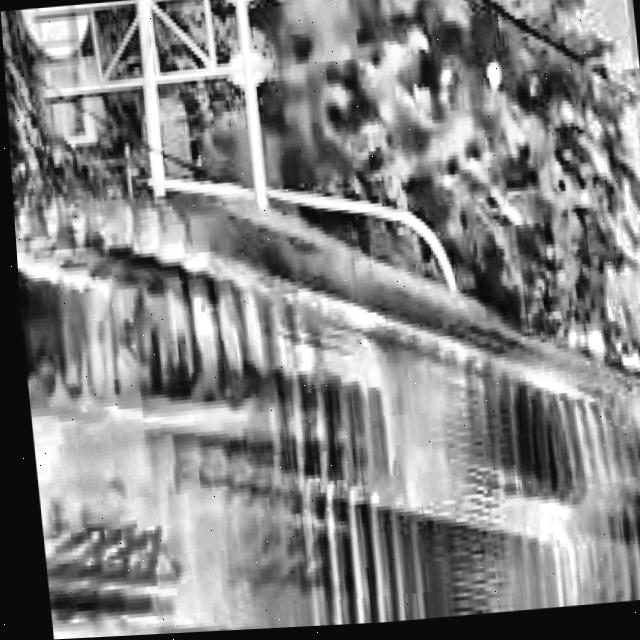Kereta: (552, 323, 640, 610)
Lokomotif: (6, 86, 620, 640)
